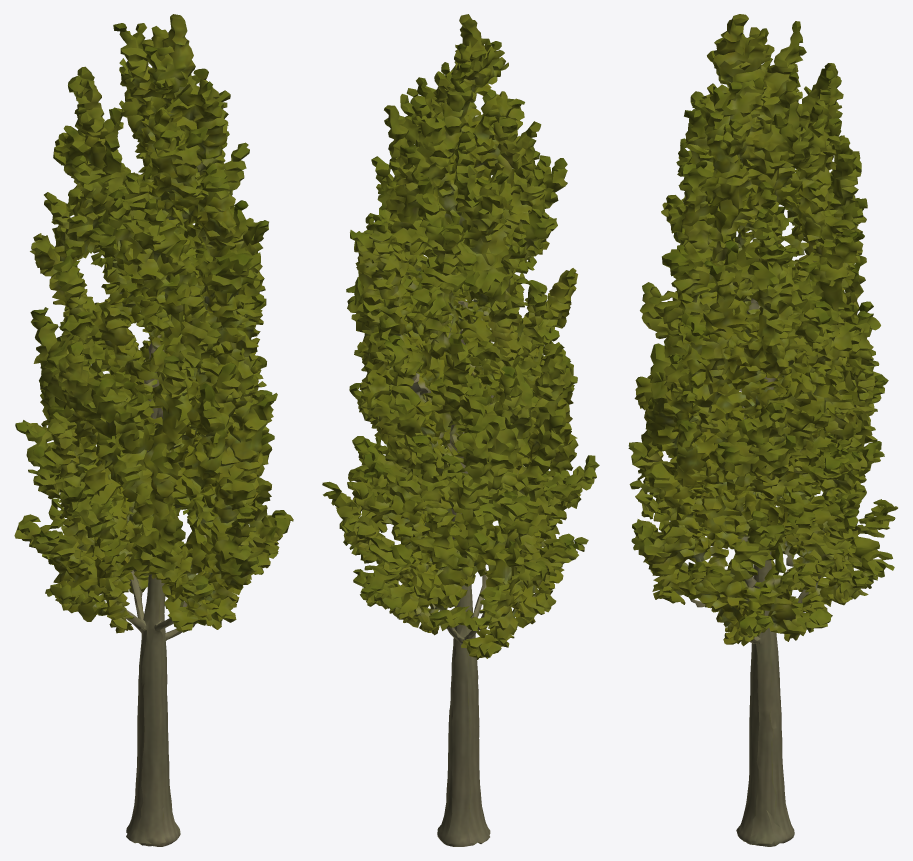
File: poplar.glb
The picture shows the model from 3 angles, left to right: view 1: azimuth 30°, elevation 25°; view 2: azimuth 150°, elevation 25°; view 3: azimuth 270°, elevation 25°; orthographic projection. The views are drawn at different scales.
Visible parts, largest first — view 1: world; view 2: world; view 3: world.
Part boxes in pixels (bbox=[...]): world: bbox=[14, 14, 293, 846]; world: bbox=[322, 14, 599, 846]; world: bbox=[628, 14, 897, 846].
Size of the model in its own units: 3.7 by 12 by 3.56.
1 material, 1 textured.
